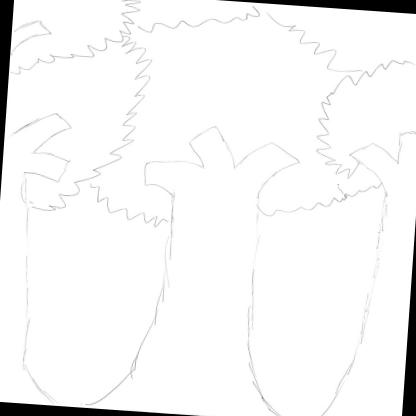branch_cut: (142, 116, 308, 206), (346, 118, 416, 183)
crown_cloud: (80, 20, 362, 239)
trunk_straight: (142, 231, 278, 357), (356, 212, 414, 370)
